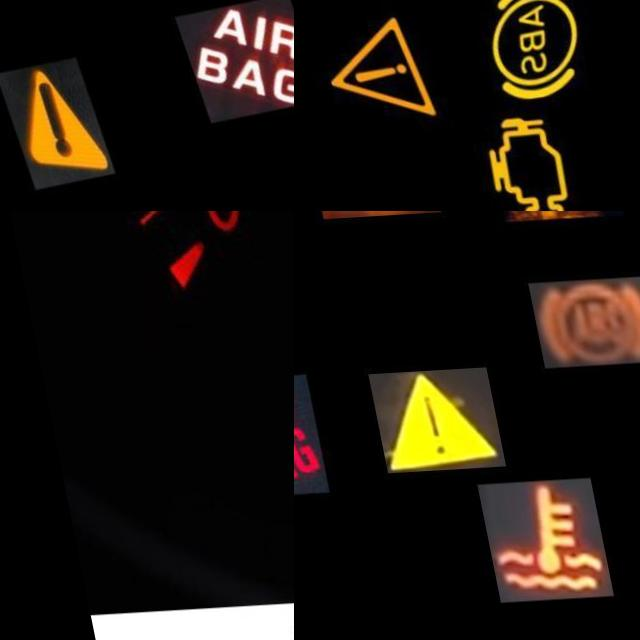Central Warning lamp: (357, 371, 491, 476), (0, 58, 100, 191)
Engine cooling system: (462, 483, 593, 606)
